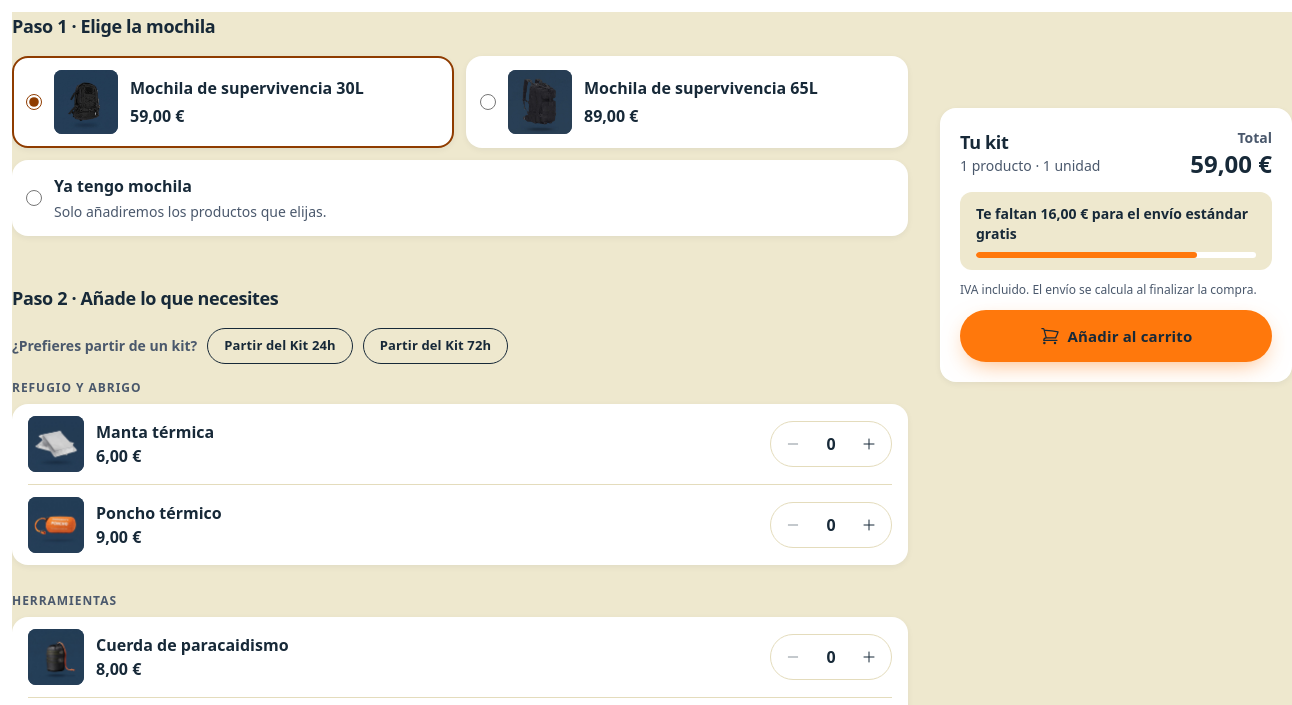
KitBuilder › starts from a ready-made kit's contents and says what it cannot add
Expected: the button "Añadir al carrito" is enabled, [960,310,1272,362]
Click the radio button labelled "Ya tengo mochila Solo añadiremos los productos que elijas.".
click(34, 198)  # box [26,190,42,206]
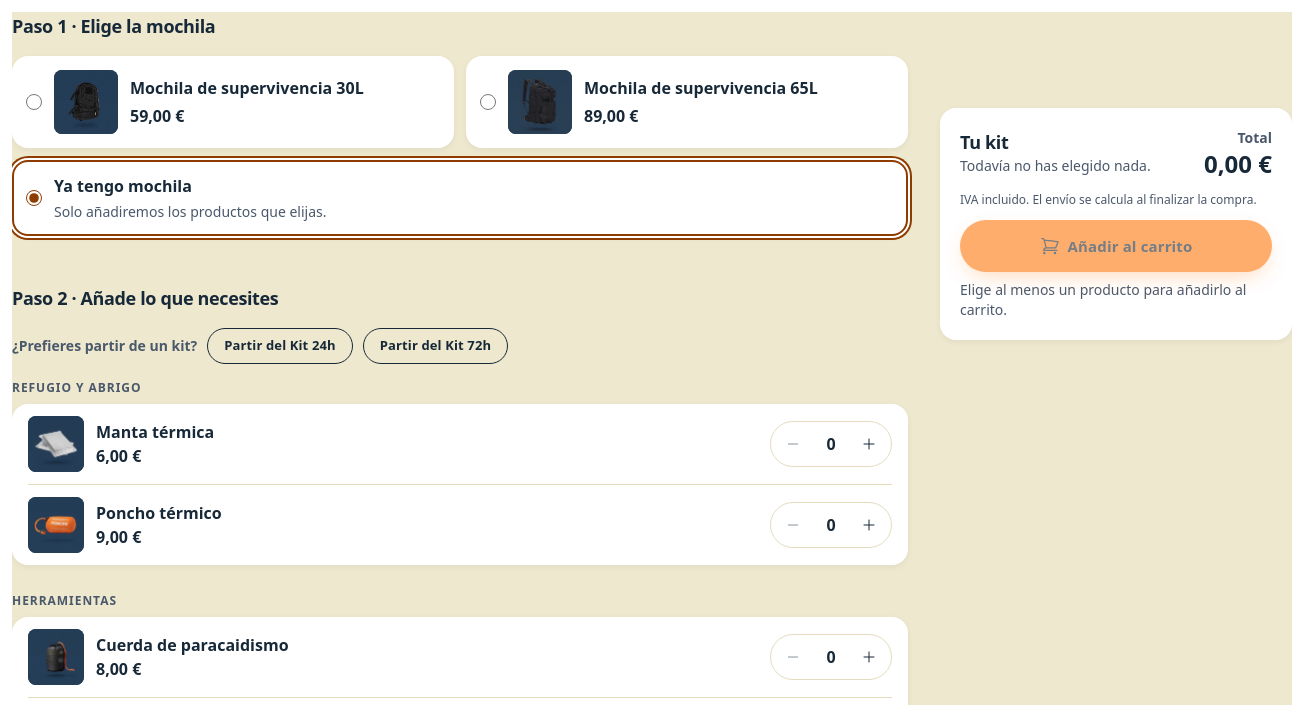
Click the button "Partir del Kit 72h".
click(435, 346)  # box [363,328,508,364]
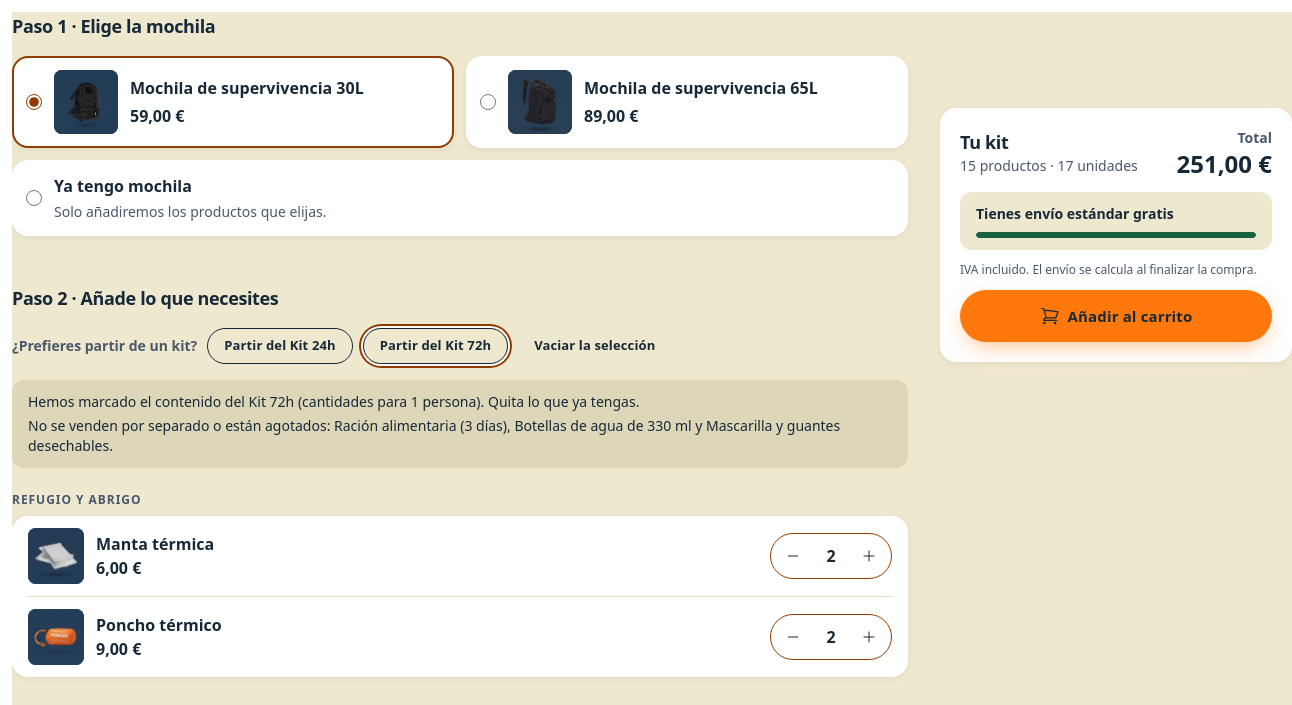
Now the radio button labelled "Mochila de supervivencia 30L 59,00 €" is checked, box [26,94,42,110]
Now the text "Hemos marcado el contenido del Kit 72h" is shown, box [28,392,639,411]
Now the element "Tu kit" no longer shows "Todavía no has elegido nada.", box [940,108,1291,362]
Click the button "Vaciar la selección".
click(595, 346)  # box [518,328,671,364]
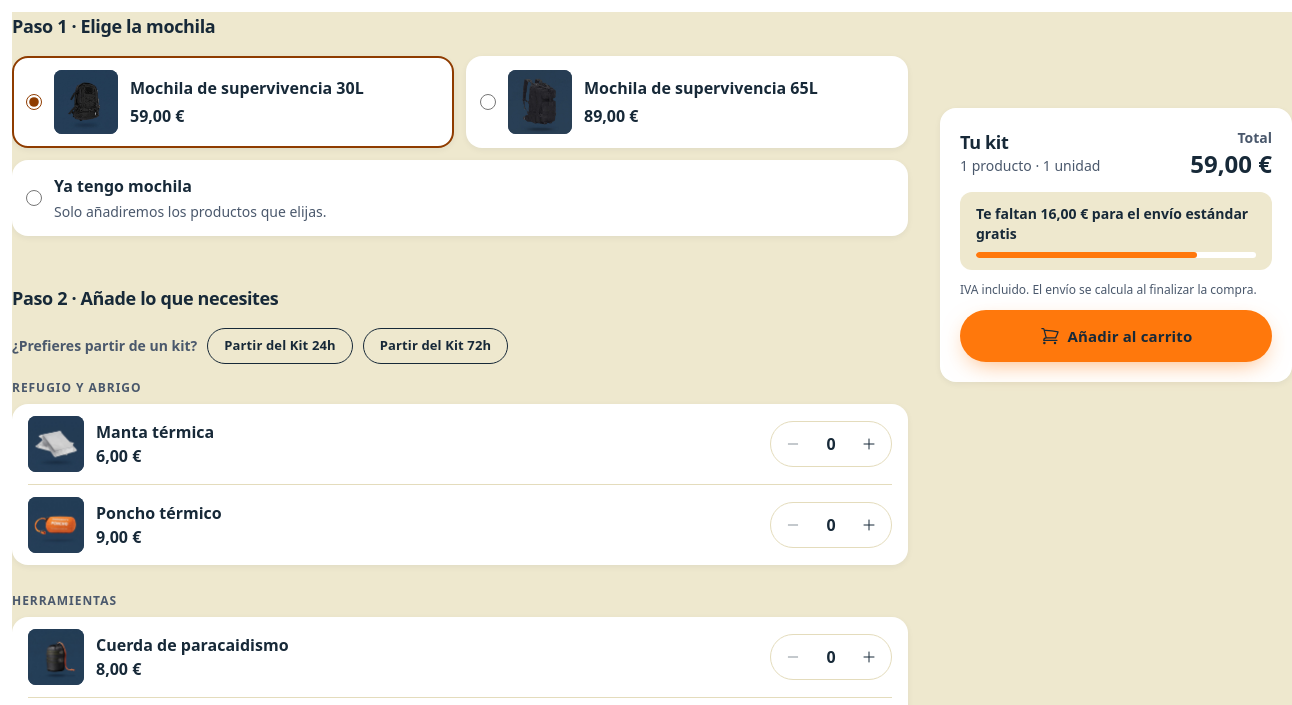
Now the text "Hemos marcado el contenido" is gone
Now the element "Tu kit" shows "1 producto · 1 unidad", box [960,156,1100,175]
